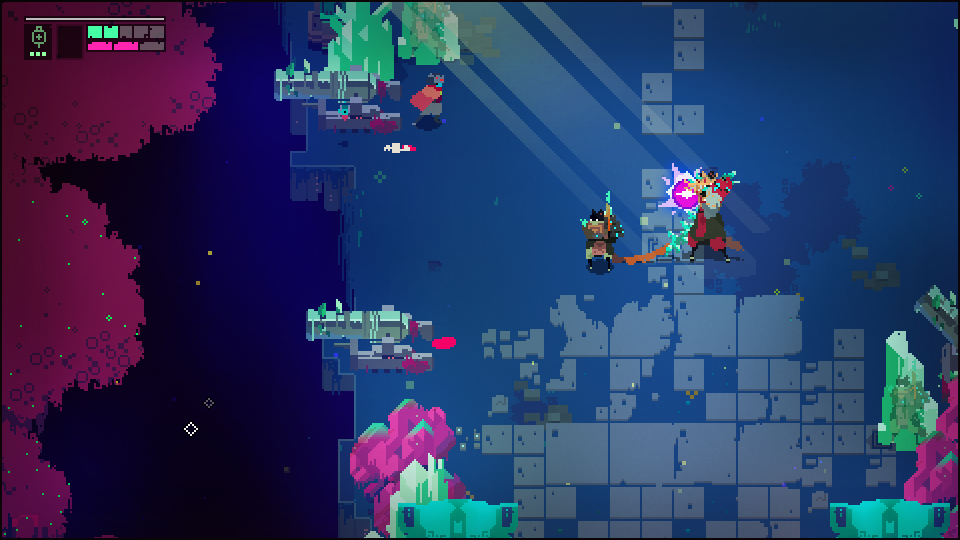hanged_man: (672, 168, 744, 260)
player: (411, 75, 445, 122)
